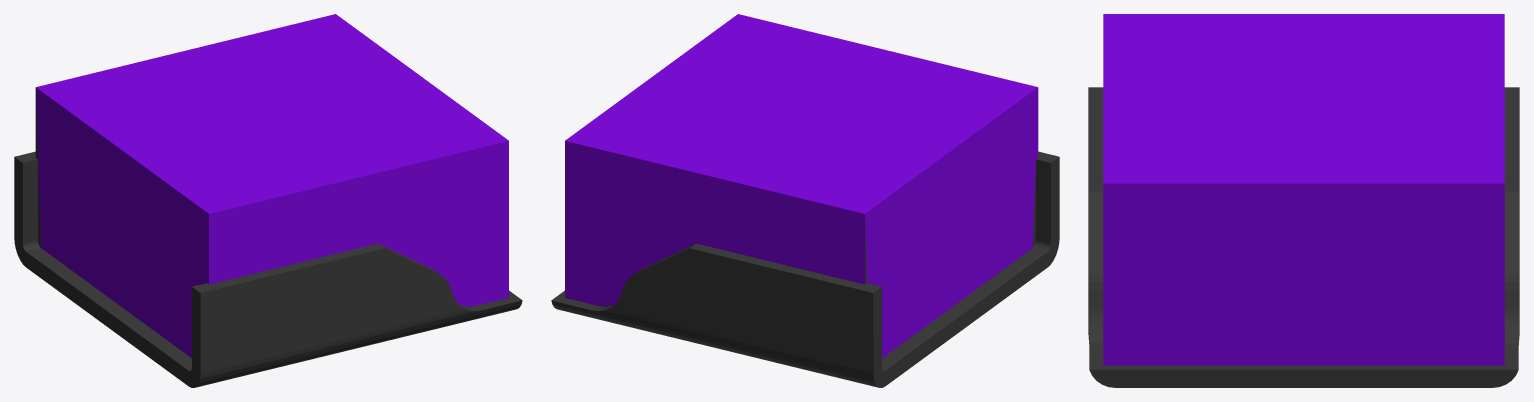
File: PTZ_head_link.dae
3 renders of one model, left to right at view 1: azimuth 30°, elevation 25°; view 2: azimuth 150°, elevation 25°; view 3: azimuth 270°, elevation 25°, orthographic. The views are drawn at different scales.
Visible parts, largest first — view 1: node0; view 2: node0; view 3: node0.
Part boxes in pixels (x1,y1,x2,y2): node0: [14, 14, 522, 387]; node0: [551, 14, 1059, 387]; node0: [1088, 14, 1519, 387].
Size of the model in its own units: 0.0431 by 0.0431 by 0.0221.
